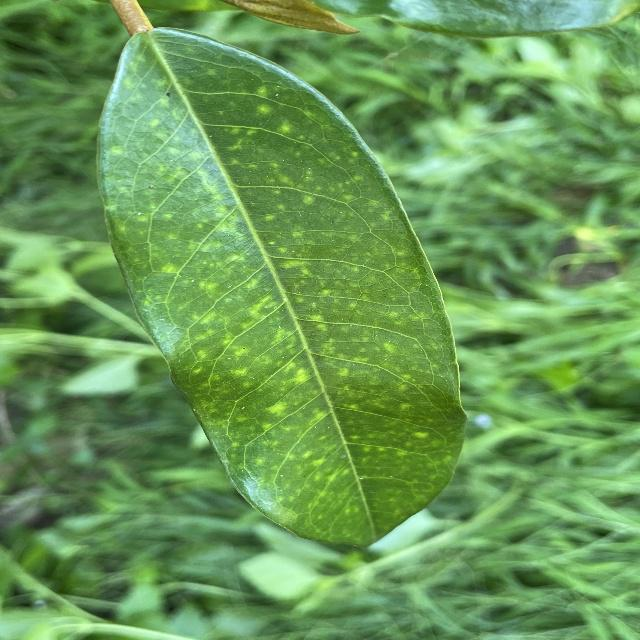Leaf Spot: (93, 17, 477, 559)
